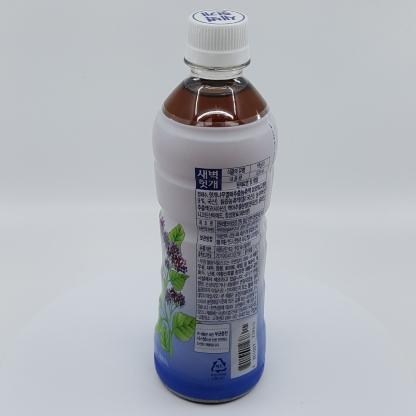---------520ML: (151, 9, 278, 403)
